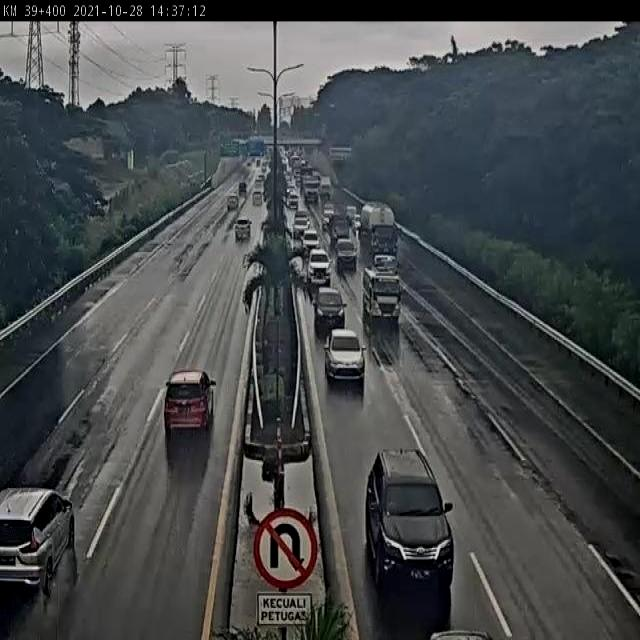Bus: (361, 253, 402, 326)
Car: (366, 447, 458, 592), (0, 479, 75, 601), (163, 369, 218, 443), (322, 329, 363, 386), (313, 289, 344, 334), (308, 250, 332, 288), (336, 237, 360, 274), (299, 225, 319, 251), (234, 216, 254, 242), (227, 195, 240, 209), (251, 191, 263, 203)
Truck: (361, 200, 401, 263), (330, 214, 348, 246), (302, 179, 321, 202)
